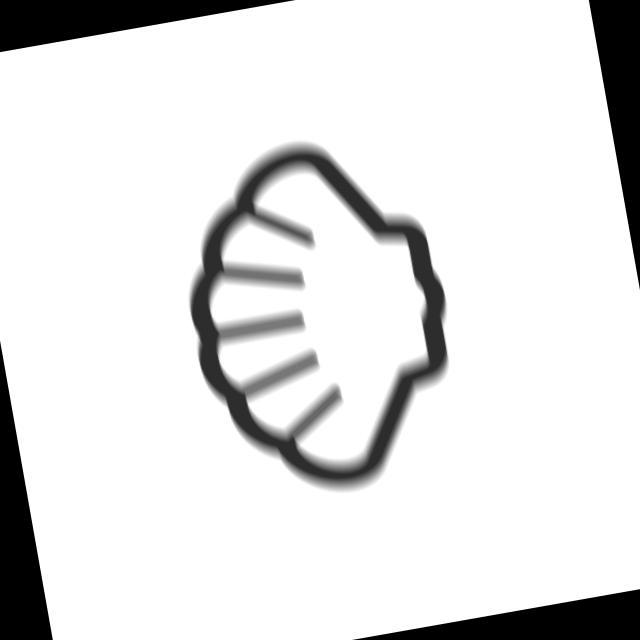shell: (154, 112, 483, 523)
